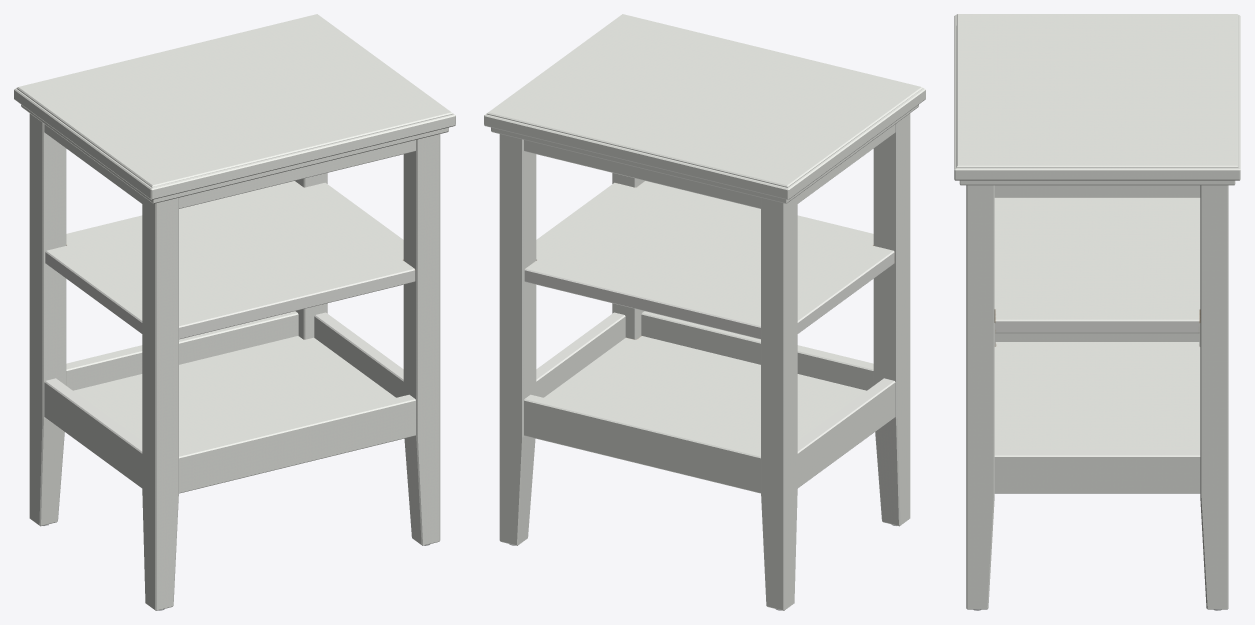
Rendered from idanas_stolik_00496048.glb.
3 renders of one model, left to right at view 1: azimuth 30°, elevation 25°; view 2: azimuth 150°, elevation 25°; view 3: azimuth 270°, elevation 25°, orthographic. The views are drawn at different scales.
Parts seen in each view (by area): view 1: idanas_stolik_00496048; view 2: idanas_stolik_00496048; view 3: idanas_stolik_00496048.
Boxes of the visible parts, bbox=[...] form: idanas_stolik_00496048: bbox=[14, 14, 455, 610]; idanas_stolik_00496048: bbox=[484, 14, 925, 610]; idanas_stolik_00496048: bbox=[954, 14, 1240, 610].
Bounding box in the file's own units: 0.46 × 0.626 × 0.36.
Materials: 1 (1 with a texture image).
